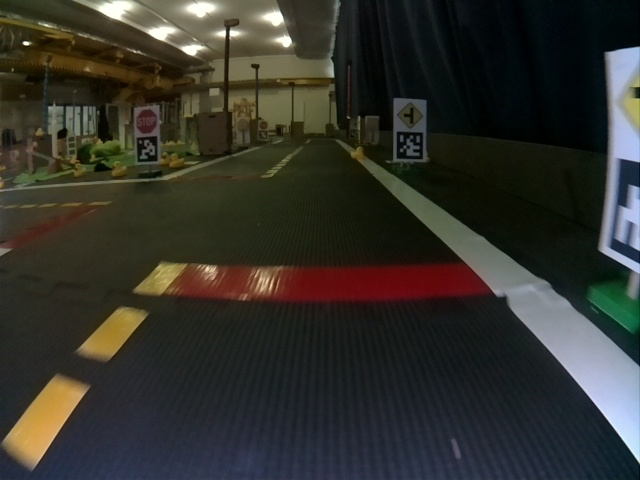Duckie: (112, 161, 126, 177), (169, 155, 184, 168), (74, 165, 86, 177)
Intersection sign: (396, 103, 423, 127)
QR code: (605, 157, 638, 267), (396, 130, 425, 160), (137, 137, 157, 162)
Stop sign: (135, 109, 158, 134)
